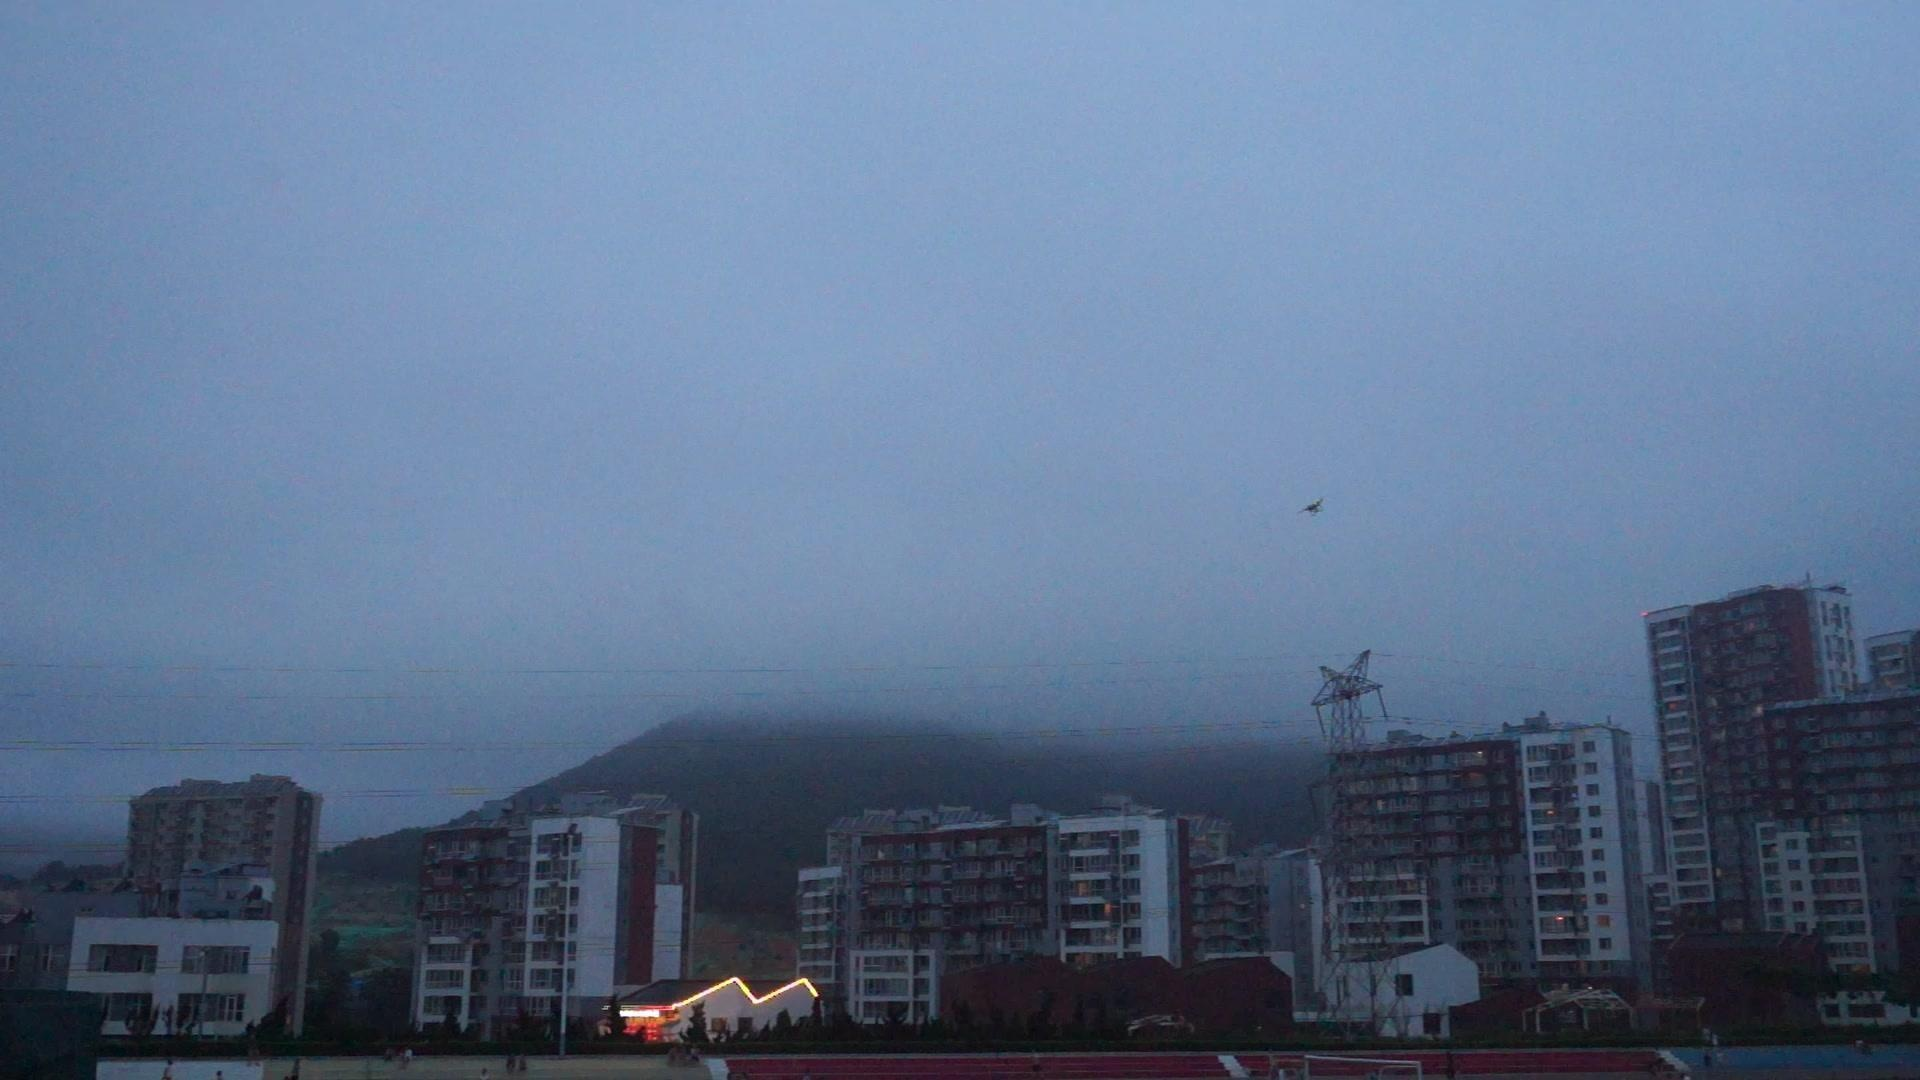UAV: (1298, 497, 1325, 517)
